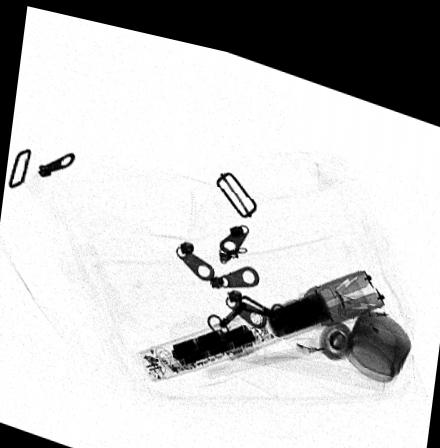Baton: (135, 250, 387, 376)
